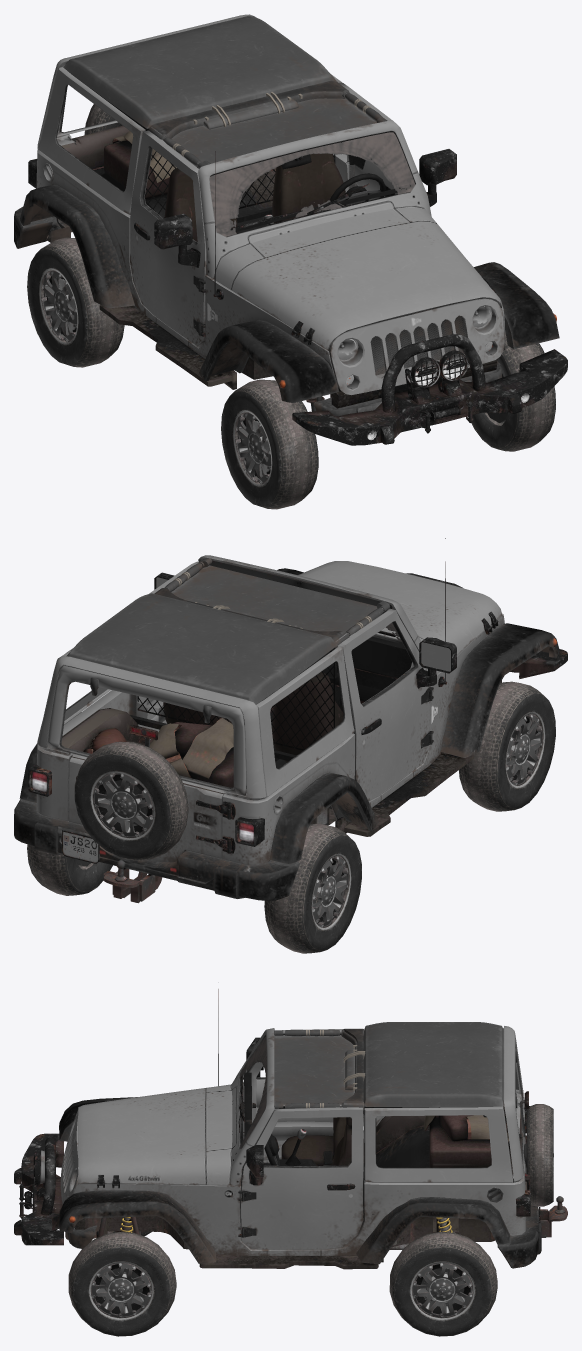
File: jeep.glb
3 renders of one model, top to bottom at view 1: azimuth 30°, elevation 25°; view 2: azimuth 150°, elevation 25°; view 3: azimuth 270°, elevation 25°, orthographic. The views are drawn at different scales.
Parts seen in each view (by area): view 1: Jeep_body_Jeep_body_0_0, Jeep_tires_Jeep_tires_0_3, Jeep_details_Jeep_details_0_1, Jeep_interior_Jeep_interior_0_2; view 2: Jeep_body_Jeep_body_0_0, Jeep_tires_Jeep_tires_0_3, Jeep_interior_Jeep_interior_0_2, Jeep_details_Jeep_details_0_1; view 3: Jeep_body_Jeep_body_0_0, Jeep_tires_Jeep_tires_0_3, Jeep_interior_Jeep_interior_0_2, Jeep_details_Jeep_details_0_1.
Part boxes in pixels (box(x1,y1,x2,y2)): Jeep_body_Jeep_body_0_0: box(14, 14, 559, 416); Jeep_tires_Jeep_tires_0_3: box(27, 104, 555, 509); Jeep_details_Jeep_details_0_1: box(28, 149, 567, 445); Jeep_interior_Jeep_interior_0_2: box(52, 72, 497, 408); Jeep_body_Jeep_body_0_0: box(14, 555, 559, 900); Jeep_tires_Jeep_tires_0_3: box(27, 681, 555, 953); Jeep_interior_Jeep_interior_0_2: box(61, 560, 473, 850); Jeep_details_Jeep_details_0_1: box(28, 538, 567, 903); Jeep_body_Jeep_body_0_0: box(59, 1022, 541, 1268); Jeep_tires_Jeep_tires_0_3: box(68, 1104, 553, 1336); Jeep_interior_Jeep_interior_0_2: box(74, 1031, 521, 1269); Jeep_details_Jeep_details_0_1: box(14, 989, 567, 1272).
Size of the model in its own units: 1.89 by 1.87 by 3.67.
4 materials, 4 textured.
